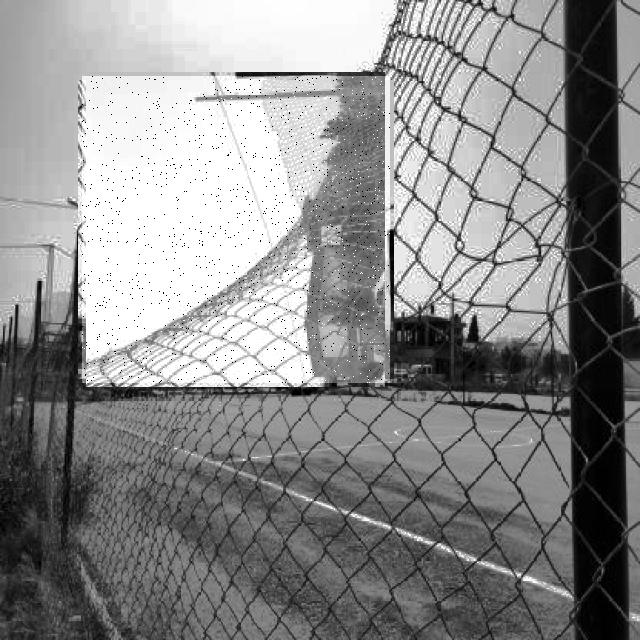anomaly-fence: (82, 76, 390, 383)
